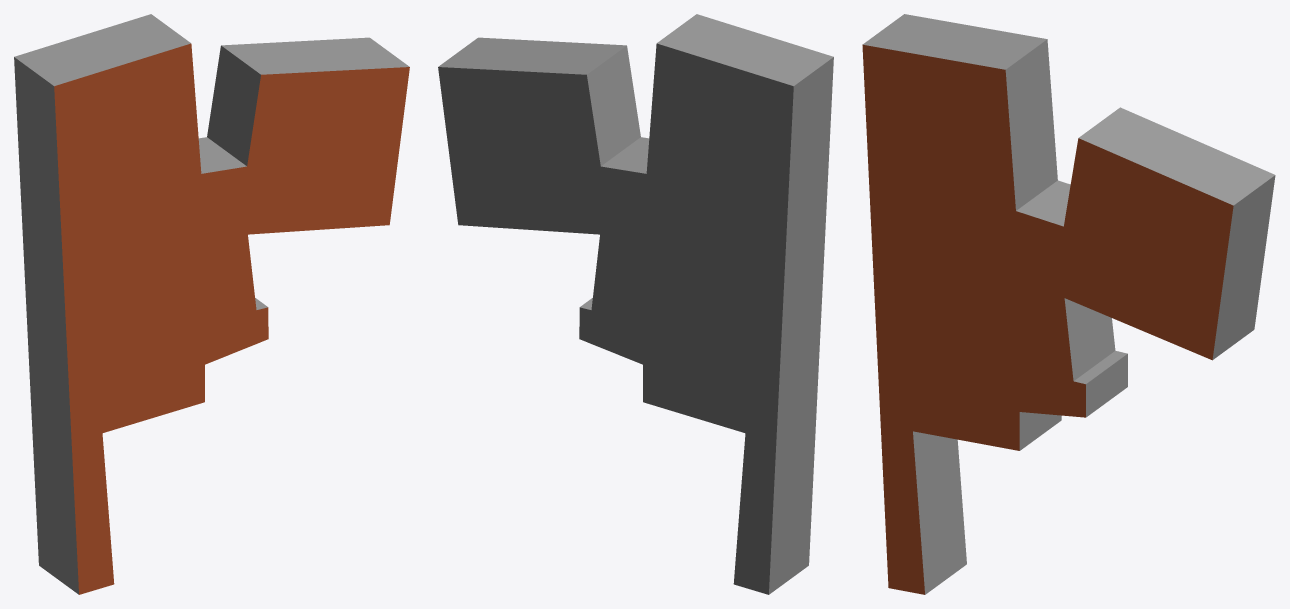
File: construction_3687_assumed_A_Casa_h6m.obj
3 renders of one model, left to right at view 1: azimuth 30°, elevation 25°; view 2: azimuth 150°, elevation 25°; view 3: azimuth 330°, elevation 25°, orthographic. The views are drawn at different scales.
Parts seen in each view (by area): view 1: construction_3687_assumed_A_Casa; view 2: construction_3687_assumed_A_Casa; view 3: construction_3687_assumed_A_Casa.
Part boxes in pixels (x1=…): construction_3687_assumed_A_Casa: x1=14, y1=14, x2=409, y2=594; construction_3687_assumed_A_Casa: x1=438, y1=14, x2=833, y2=594; construction_3687_assumed_A_Casa: x1=862, y1=14, x2=1275, y2=594.
Bounding box in the file's own units: 30.68 × 43.2 × 6.
